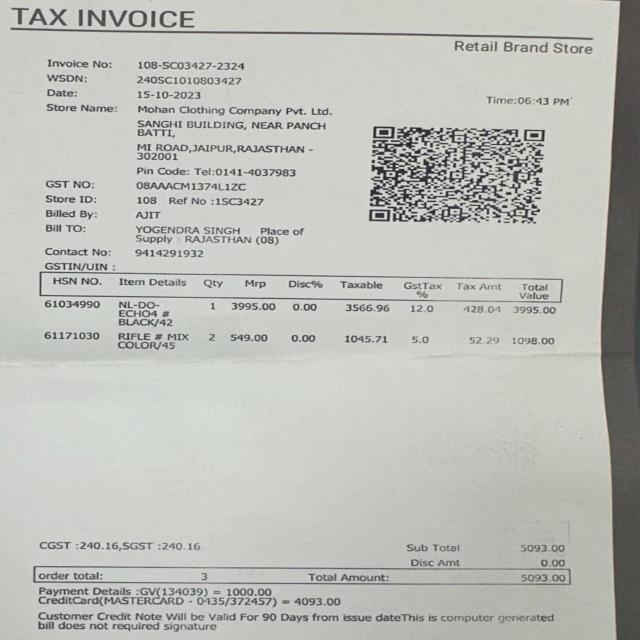paragraph: (38, 51, 339, 271), (31, 586, 562, 636), (33, 570, 570, 585), (4, 3, 208, 34), (391, 537, 579, 569), (442, 37, 605, 61), (27, 534, 210, 554), (484, 86, 586, 112)
table: (40, 273, 570, 355)
